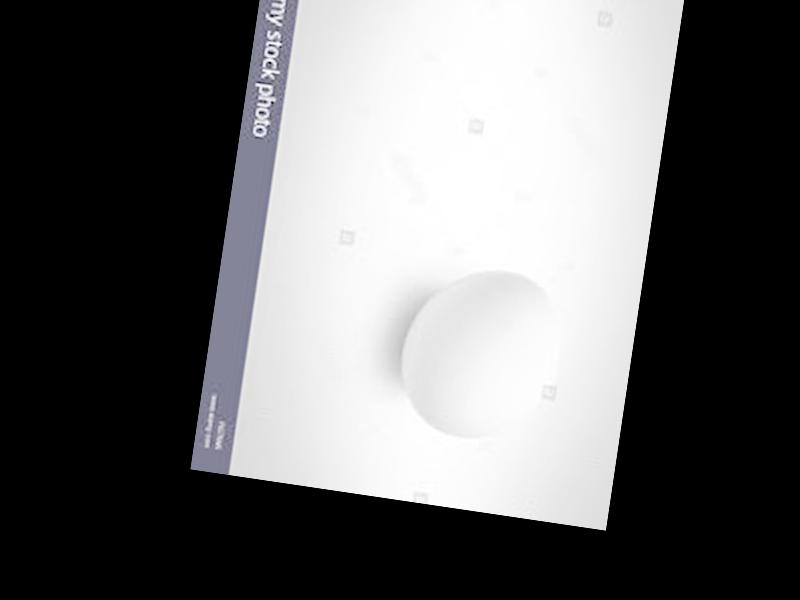Eggs: (390, 260, 567, 451)
